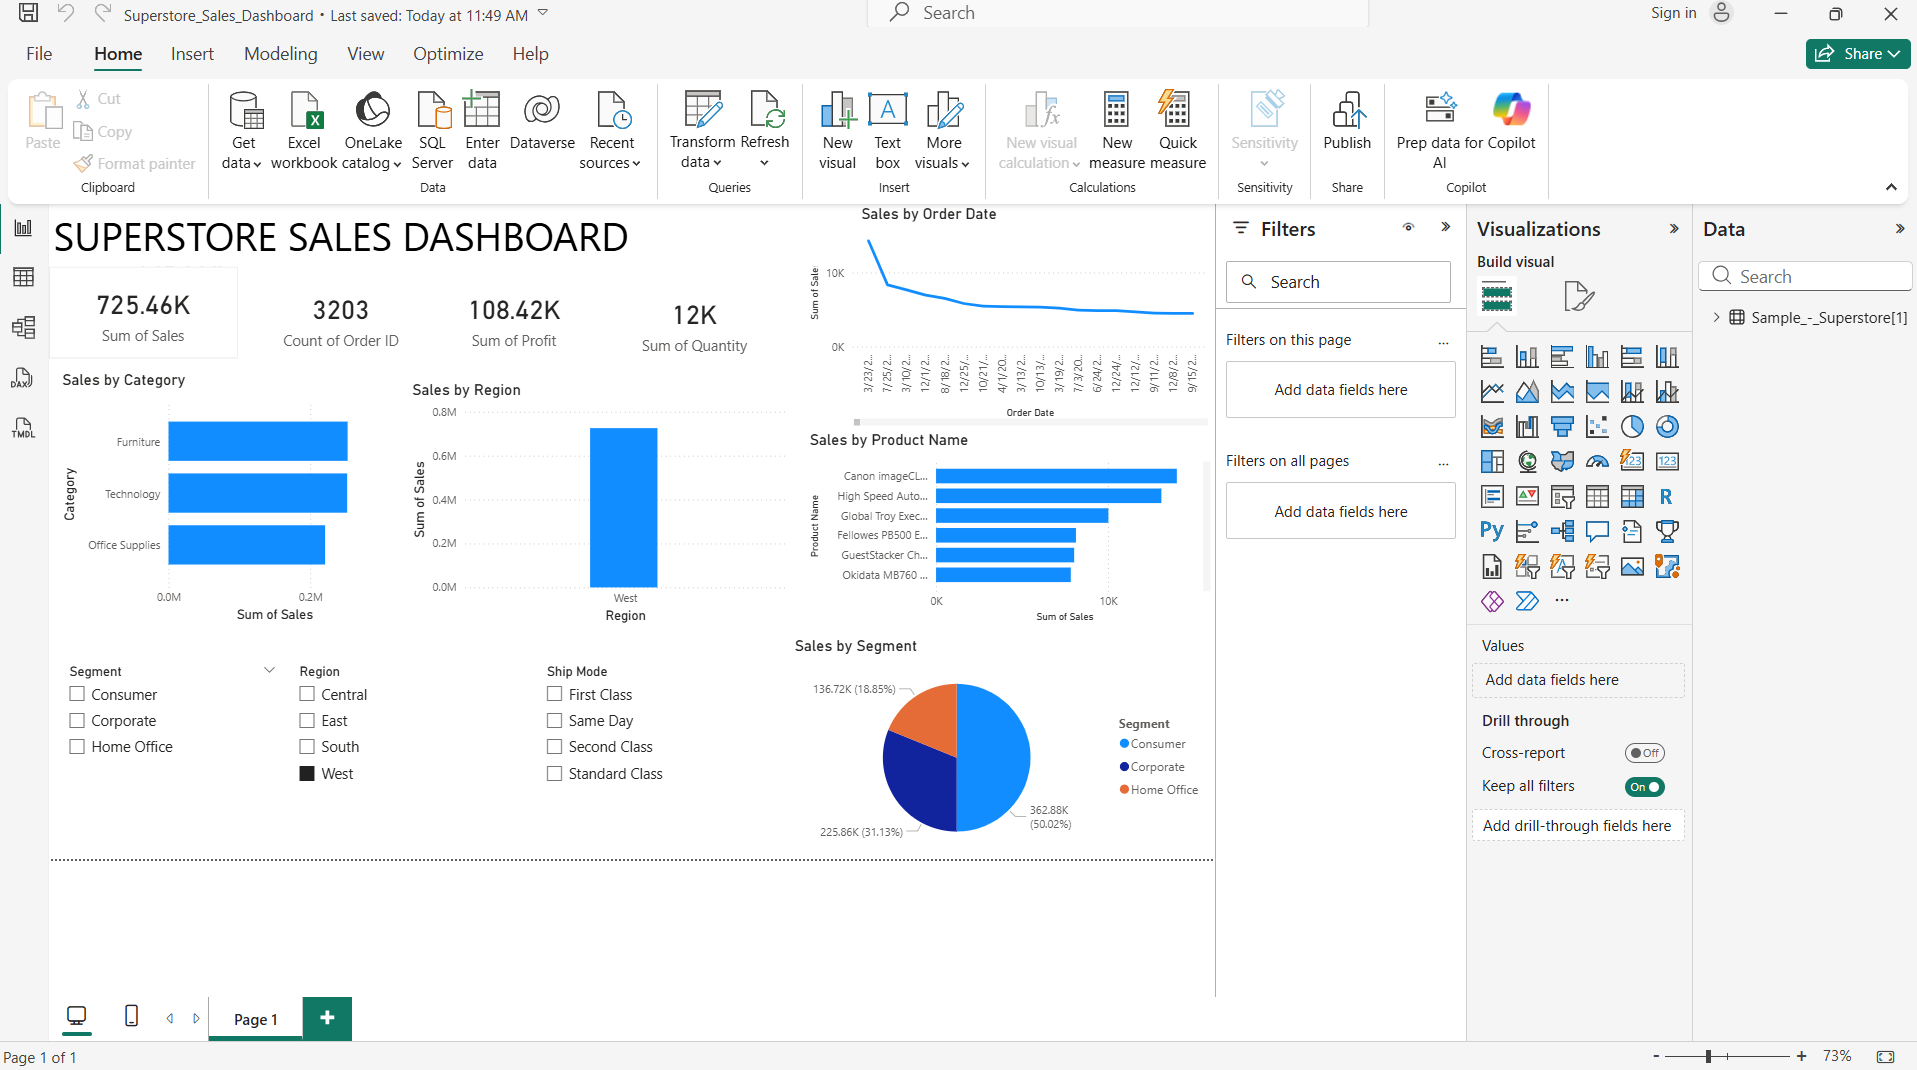

What the dashboard file says about the page in this screenshot:
{"tool":"powerbi","page":{"name":"Page 1","canvas":[1280,720],"ordinal":0},"visuals":[{"type":"card","fields":{"Values":["Sum(Sample_-_Superstore[1].Sales)"]},"box":[0,0,280,280],"z":0},{"type":"card","fields":{"Values":["Sum(Sample_-_Superstore[1].Sales)"]},"box":[10,10,280,280],"z":1},{"type":"card","fields":{"Values":["Sum(Sample_-_Superstore[1].Sales)"]},"box":[0,0,207.1,182.9],"z":2},{"type":"card","fields":{"Values":["Sum(Sample_-_Superstore[1].Sales)"]},"box":[0,0,168.6,182.9],"z":3},{"type":"card","fields":{"Values":["Sum(Sample_-_Superstore[1].Sales)"]},"box":[0,0,244.3,170],"z":4},{"type":"card","fields":{"Values":["Sum(Sample_-_Superstore[1].Sales)"]},"box":[0,0,290,160],"z":5},{"type":"card","fields":{"Values":["Sum(Sample_-_Superstore[1].Sales)"]},"box":[0,68.6,207.1,101.4],"z":6},{"type":"card","fields":{"Values":["Sum(Sample_-_Superstore[1].Profit)"]},"box":[417.1,68.6,187.1,114.3],"z":7},{"type":"card","fields":{"Values":["CountNonNull(Sample_-_Superstore[1].Order ID)"]},"box":[207.1,68.6,227.1,114.3],"z":8},{"type":"card","fields":{"Values":["Sum(Sample_-_Superstore[1].Quantity)"]},"box":[604.3,68.6,210,124.3],"z":9},{"type":"lineChart","fields":{"Category":["Sample_-_Superstore[1].Order Date"],"Y":["Sum(Sample_-_Superstore[1].Sales)"]},"box":[830,0,447.1,248.6],"z":10},{"type":"barChart","title":" Sales by Category","fields":{"Category":["Sample_-_Superstore[1].Category"],"Y":["Sum(Sample_-_Superstore[1].Sales)"]},"box":[10,182.9,374.3,281.4],"z":11},{"type":"clusteredColumnChart","title":"Sales by Region","fields":{"Category":["Sample_-_Superstore[1].Region"],"Y":["Sum(Sample_-_Superstore[1].Sales)"]},"box":[394.3,192.9,420,271.4],"z":12},{"type":"clusteredBarChart","title":"Sales by Product Name","fields":{"Category":["Sample_-_Superstore[1].Product Name"],"Y":["Sum(Sample_-_Superstore[1].Sales)"]},"box":[830,248.6,450,215.7],"z":13},{"type":"slicer","fields":{"Values":["Sample_-_Superstore[1].Segment"]},"box":[10,500,251.4,220],"z":14},{"type":"slicer","fields":{"Values":["Sample_-_Superstore[1].Region"]},"box":[261.4,500,272.9,220],"z":15},{"type":"slicer","fields":{"Values":["Sample_-_Superstore[1].Ship Mode"]},"box":[534.3,500,295.7,220],"z":16},{"type":"pieChart","title":"Sales by Segment","fields":{"Category":["Sample_-_Superstore[1].Segment"],"Y":["Sum(Sample_-_Superstore[1].Sales)"]},"box":[814.3,474.3,462.9,245.7],"z":17},{"type":"textbox","box":[0,0,892.9,68.6],"z":18}]}

Visuals, with their boxes on the page's 1280x720 design canvas (x1, y1, x2, y2). These are canvas units, not pixel positions in the 1917x1070 screenshot, which may show the page scaled, cropped or inside an application window:
card - Sum(Sample_-_Superstore[1].Sales): BBox(0, 0, 280, 280)
card - Sum(Sample_-_Superstore[1].Sales): BBox(10, 10, 290, 290)
card - Sum(Sample_-_Superstore[1].Sales): BBox(0, 0, 207, 183)
card - Sum(Sample_-_Superstore[1].Sales): BBox(0, 0, 169, 183)
card - Sum(Sample_-_Superstore[1].Sales): BBox(0, 0, 244, 170)
card - Sum(Sample_-_Superstore[1].Sales): BBox(0, 0, 290, 160)
card - Sum(Sample_-_Superstore[1].Sales): BBox(0, 69, 207, 170)
card - Sum(Sample_-_Superstore[1].Profit): BBox(417, 69, 604, 183)
card - CountNonNull(Sample_-_Superstore[1].Order ID): BBox(207, 69, 434, 183)
card - Sum(Sample_-_Superstore[1].Quantity): BBox(604, 69, 814, 193)
lineChart - Sample_-_Superstore[1].Order Date x Sum(Sample_-_Superstore[1].Sales): BBox(830, 0, 1277, 249)
" Sales by Category" barChart: BBox(10, 183, 384, 464)
"Sales by Region" clusteredColumnChart: BBox(394, 193, 814, 464)
"Sales by Product Name" clusteredBarChart: BBox(830, 249, 1280, 464)
slicer - Sample_-_Superstore[1].Segment: BBox(10, 500, 261, 720)
slicer - Sample_-_Superstore[1].Region: BBox(261, 500, 534, 720)
slicer - Sample_-_Superstore[1].Ship Mode: BBox(534, 500, 830, 720)
"Sales by Segment" pieChart: BBox(814, 474, 1277, 720)
textbox: BBox(0, 0, 893, 69)
